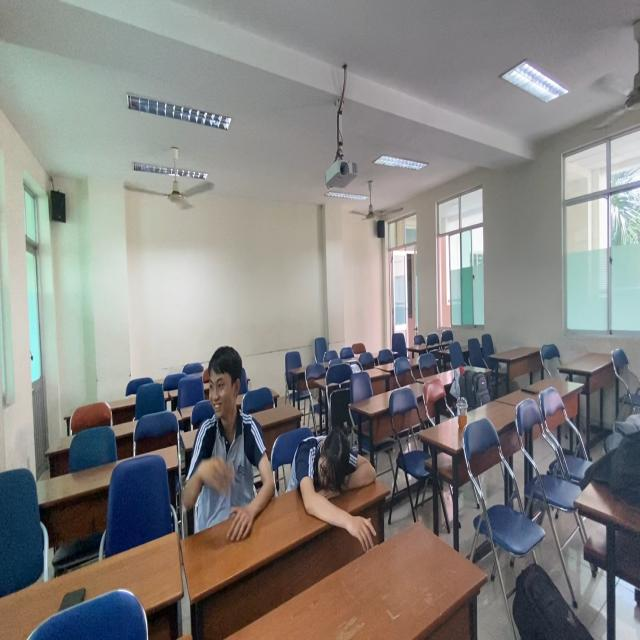sleep: (291, 426, 382, 520)
